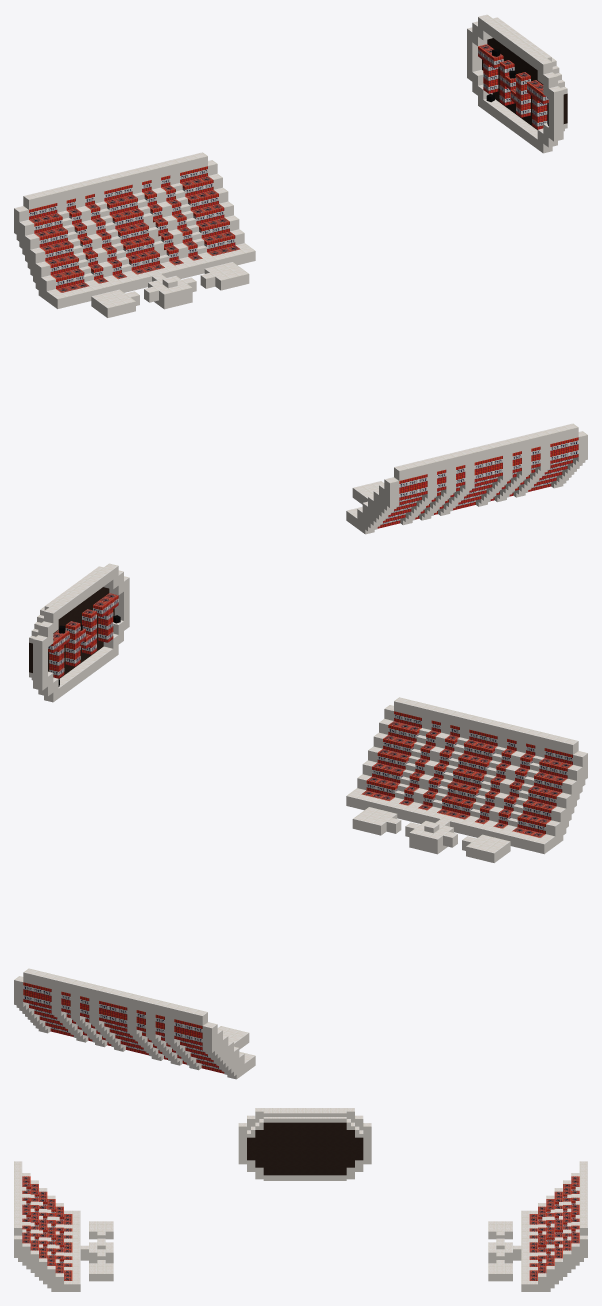
The model's file is minecraft.obj.
The picture shows the model from 3 angles, top to bottom: view 1: azimuth 30°, elevation 25°; view 2: azimuth 150°, elevation 25°; view 3: azimuth 270°, elevation 25°; orthographic projection. The views are drawn at different scales.
Bounding box in the file's own units: 35 × 30.5 × 69.
